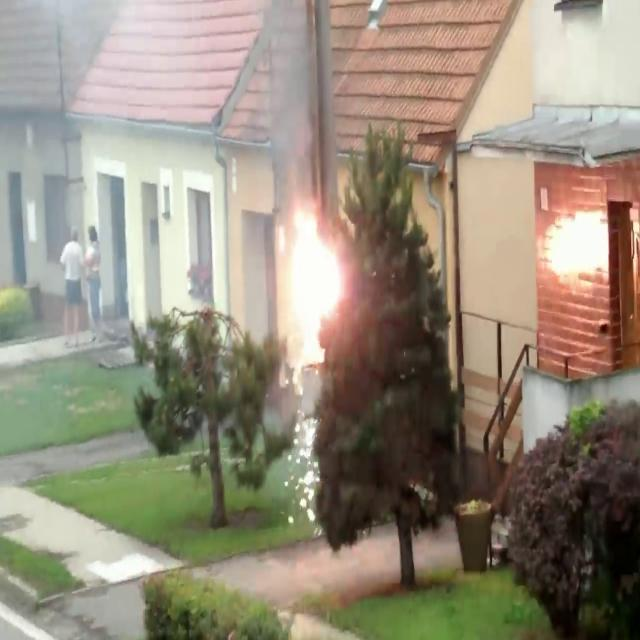Fire: (276, 186, 348, 368)
Smoke: (262, 1, 346, 206)
